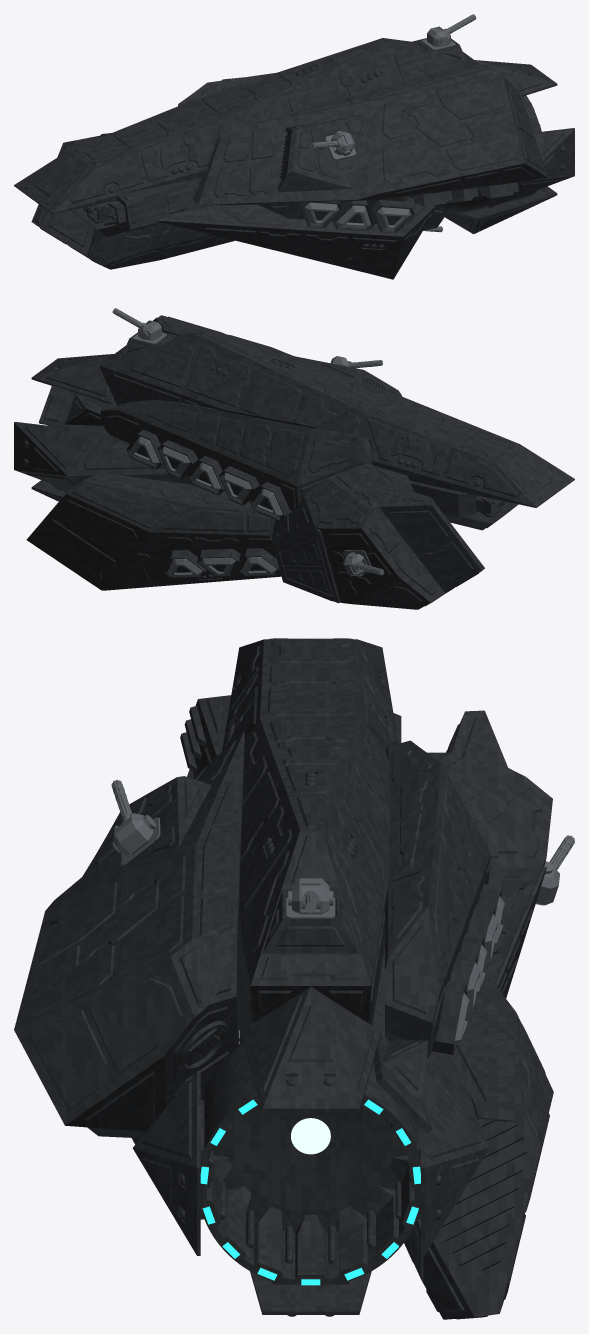
Rendered from Anubis-accepted-before-red.glb.
3 views of the same model, one above another, from view 1: azimuth 30°, elevation 25°; view 2: azimuth 150°, elevation 25°; view 3: azimuth 270°, elevation 25° (orthographic). The views are drawn at different scales.
Visible parts, largest first — view 1: amun5, amun7a, amun7, amun6, amun1, amun2a, amun11, amun2, amun8, amun5 / PDC gun, amun7 / PDC gun, amun5 / breaching pod 09 (+5 smaller); view 2: amun4, amun7, amun2, amun7a, amun3, amun1, amun3a, amun2 / closed hangar cover, amun8, amun5, amun9, amun2a (+11 smaller); view 3: amun1, amun5, amun7, amun4, amun3, amun7a, amun2, amun4a, amun3a, amun3 / closed torpedo cover, amun11, amun5 / PDC gun (+5 smaller).
Boxes of the visible parts, bbox=[...] form: amun5: bbox=[189, 64, 547, 226]; amun7a: bbox=[14, 100, 224, 214]; amun7: bbox=[194, 38, 479, 131]; amun6: bbox=[155, 205, 435, 279]; amun1: bbox=[445, 60, 574, 234]; amun2a: bbox=[36, 139, 212, 266]; amun11: bbox=[104, 177, 201, 231]; amun2: bbox=[31, 133, 234, 269]; amun8: bbox=[70, 195, 469, 236]; amun5 / PDC gun: bbox=[310, 131, 355, 155]; amun7 / PDC gun: bbox=[427, 14, 476, 46]; amun5 / breaching pod 09: bbox=[336, 205, 370, 228]; amun4: bbox=[31, 472, 281, 590]; amun7: bbox=[99, 332, 394, 437]; amun2: bbox=[272, 473, 483, 609]; amun7a: bbox=[360, 394, 574, 507]; amun3: bbox=[118, 400, 372, 487]; amun1: bbox=[14, 354, 123, 501]; amun3a: bbox=[100, 402, 313, 521]; amun2 / closed hangar cover: bbox=[274, 529, 340, 603]; amun8: bbox=[101, 441, 518, 530]; amun5: bbox=[153, 315, 401, 396]; amun9: bbox=[410, 481, 476, 516]; amun2a: bbox=[340, 464, 484, 569]; amun1: bbox=[133, 986, 488, 1316]; amun5: bbox=[14, 731, 244, 1138]; amun7: bbox=[239, 718, 390, 1023]; amun4: bbox=[453, 973, 553, 1309]; amun3: bbox=[385, 740, 490, 999]; amun7a: bbox=[222, 638, 398, 754]; amun2: bbox=[450, 710, 552, 983]; amun4a: bbox=[404, 1159, 505, 1319]; amun3a: bbox=[385, 855, 502, 1058]; amun3 / closed torpedo cover: bbox=[389, 771, 437, 881]; amun11: bbox=[180, 695, 231, 776]; amun5 / PDC gun: bbox=[111, 779, 155, 855].
Bounding box in the file's own units: 290 × 128 × 149.
Materials: 4 (1 with a texture image).
